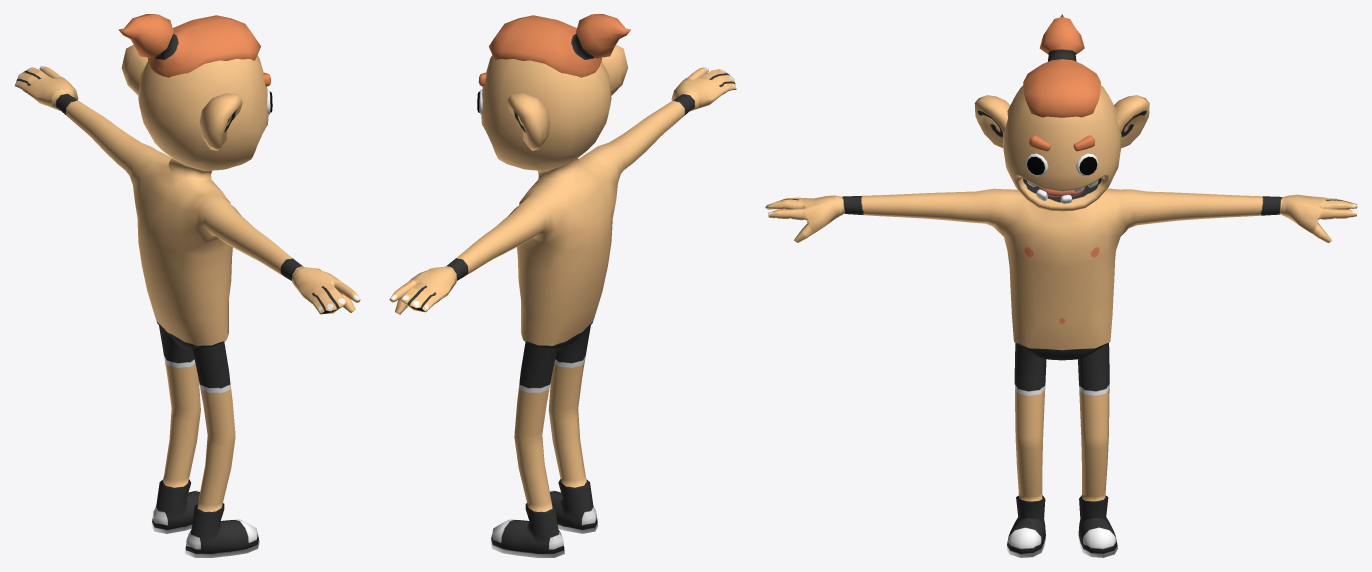
The model's file is scene_1Hu6CsJEO4.glb.
3 views of the same model, side by side, from view 1: azimuth 30°, elevation 25°; view 2: azimuth 150°, elevation 25°; view 3: azimuth 270°, elevation 25° (orthographic). The views are drawn at different scales.
Parts seen in each view (by area): view 1: Body1; view 2: Body1; view 3: Body1.
Boxes of the visible parts, bbox=[...] form: Body1: bbox=[14, 14, 360, 557]; Body1: bbox=[389, 14, 736, 557]; Body1: bbox=[765, 14, 1357, 557].
Size of the model in its own units: 1.3 by 4.64 by 5.03.
Materials: 1 (1 with a texture image).
